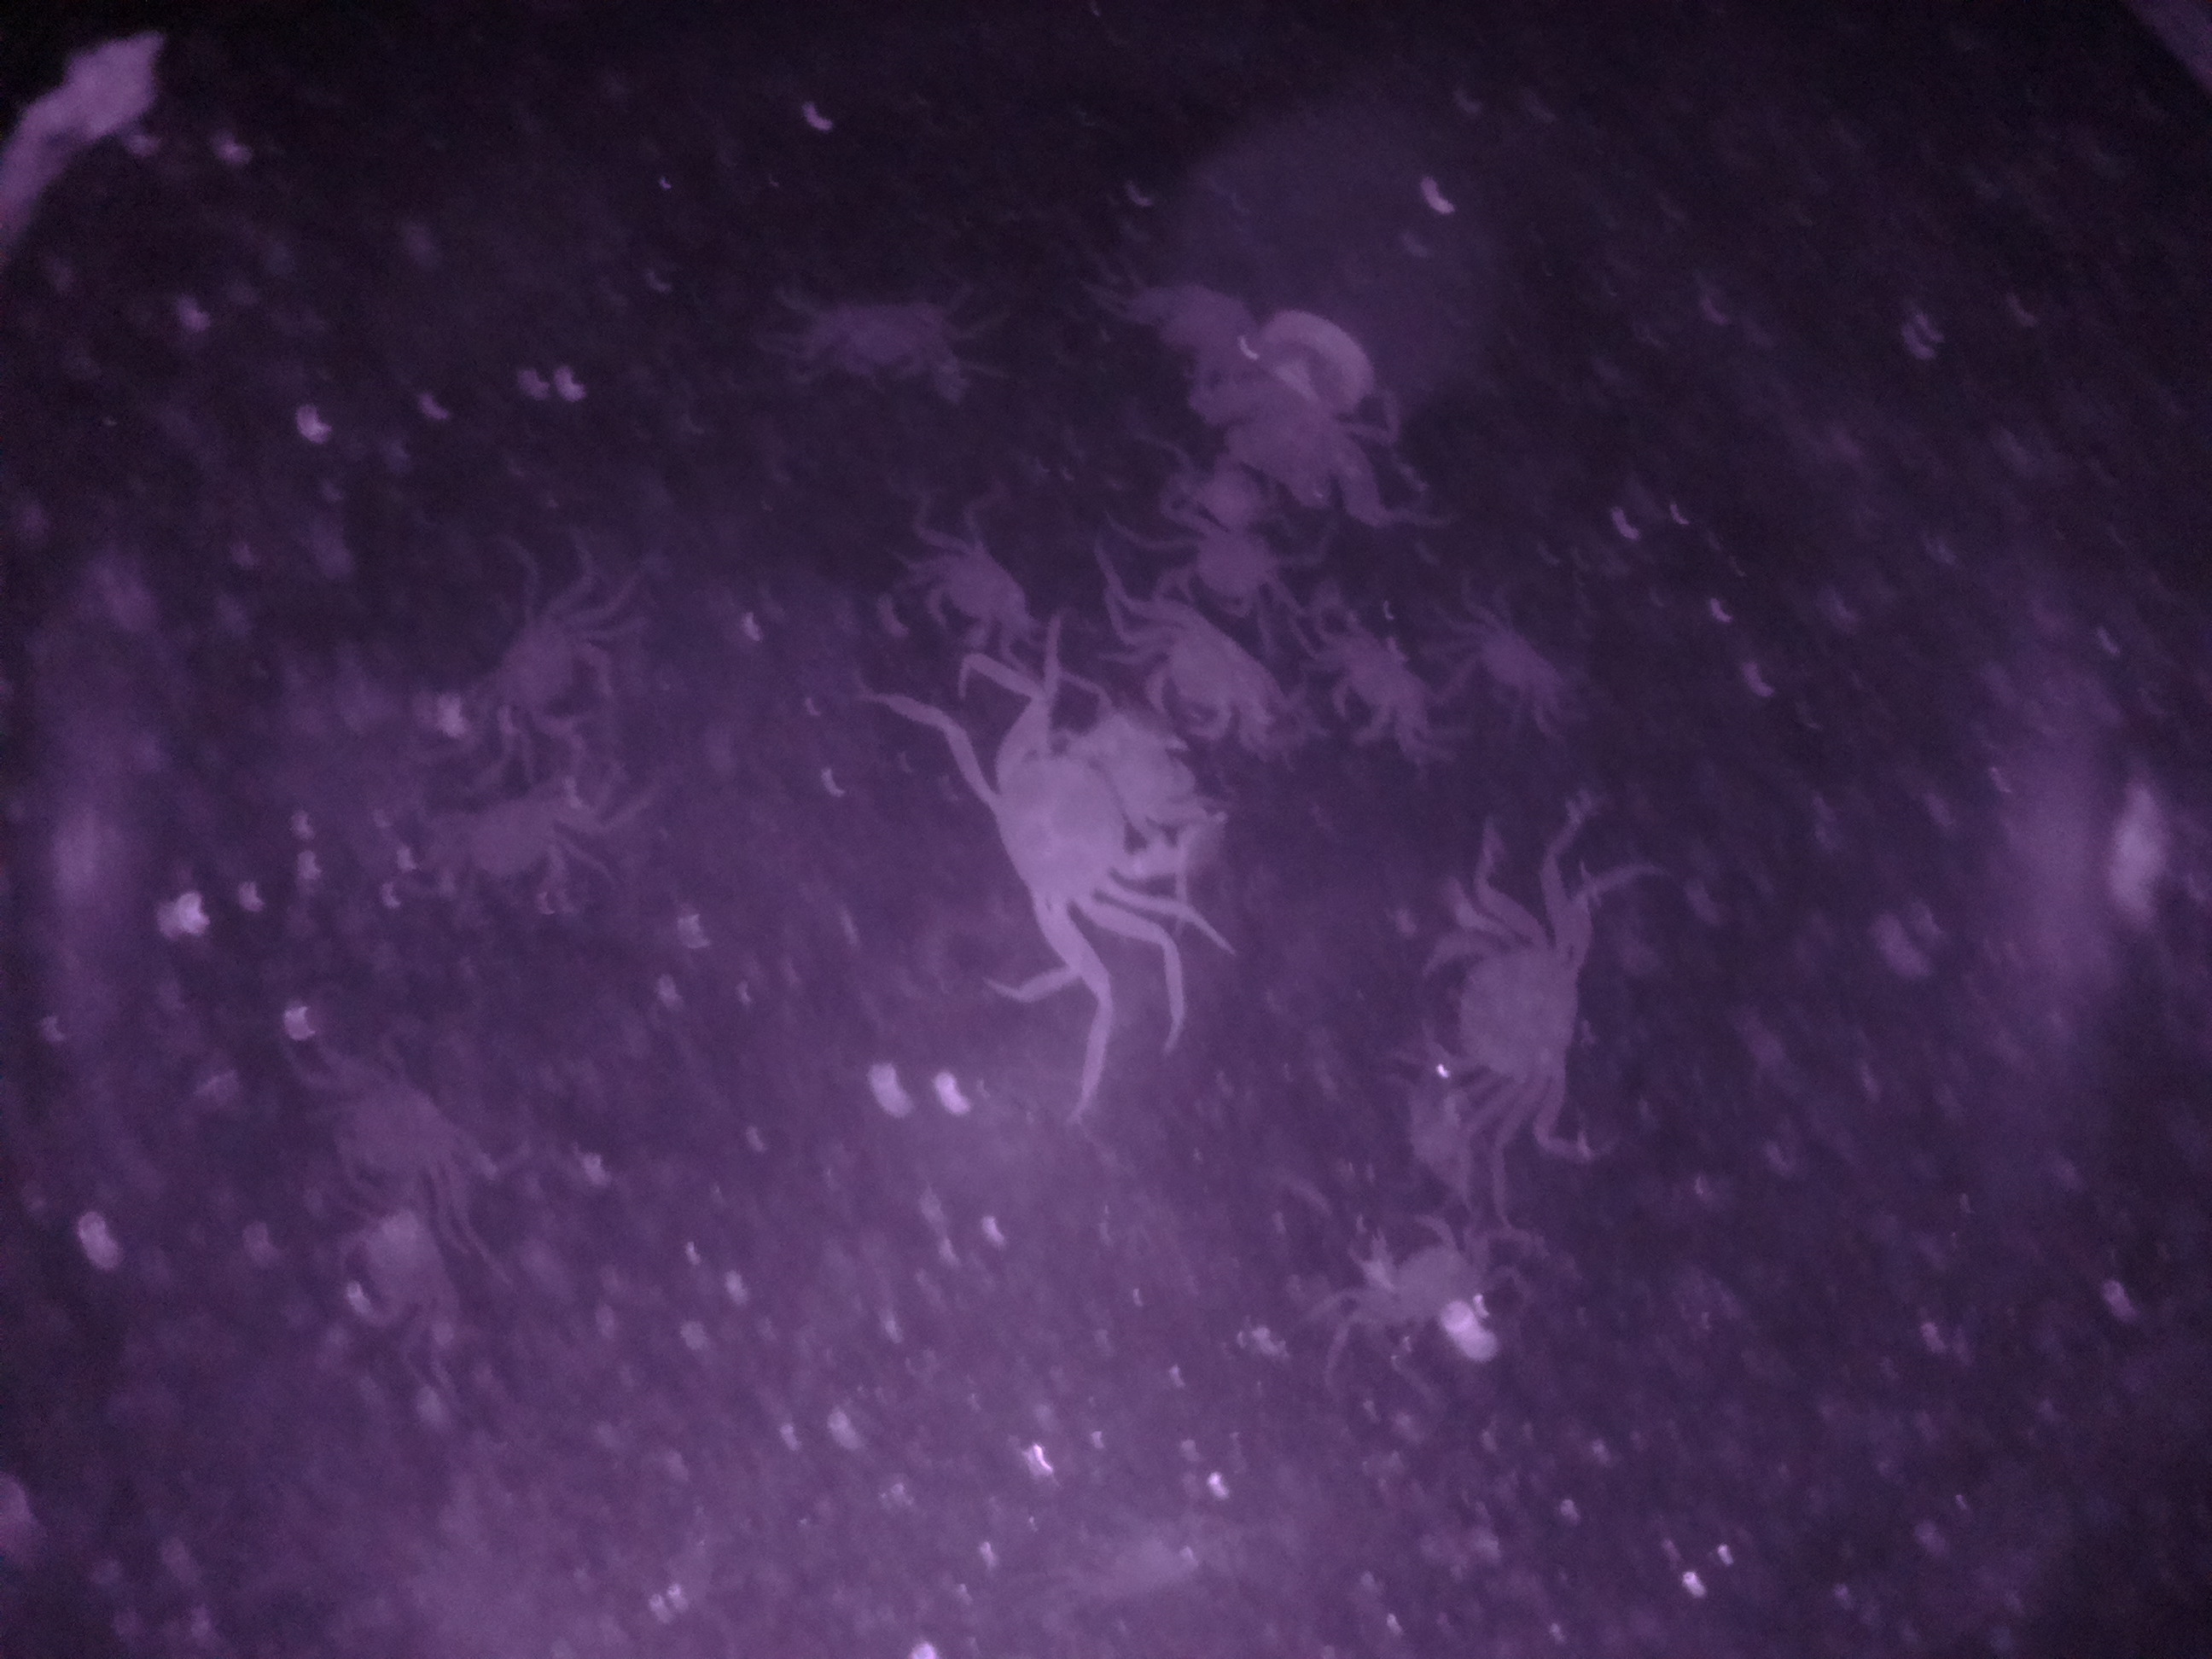Crab: (1404, 885, 1609, 1136), (1325, 1195, 1540, 1345), (463, 577, 631, 751), (914, 491, 1043, 664)
